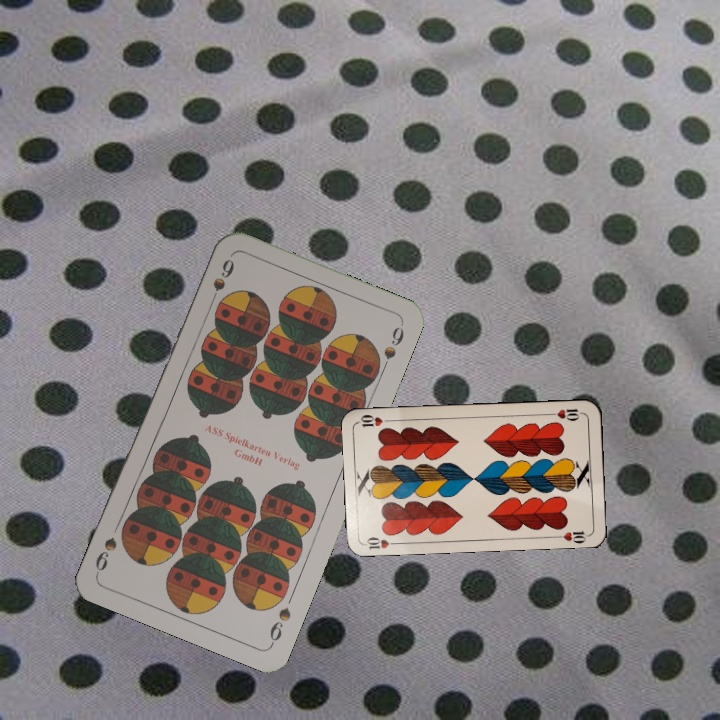H10: (361, 533, 402, 552), (545, 404, 585, 423)
S9: (205, 254, 237, 310), (265, 603, 294, 648)
